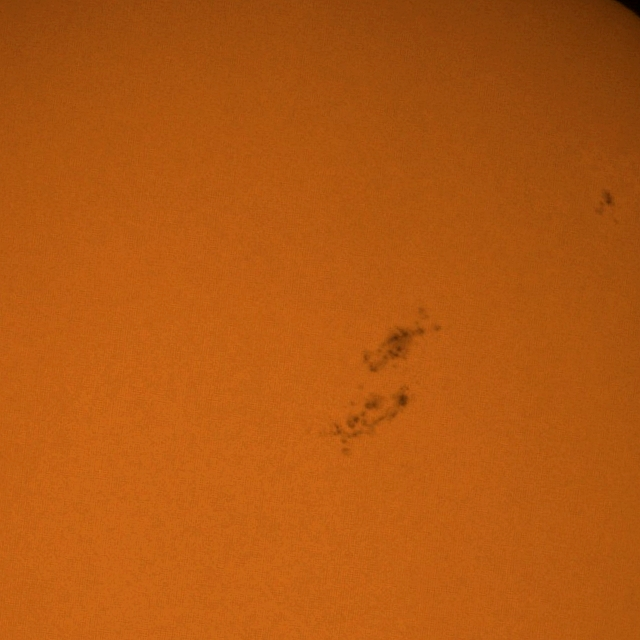sunspot: (354, 379, 417, 425), (362, 329, 412, 377), (595, 191, 621, 228)
